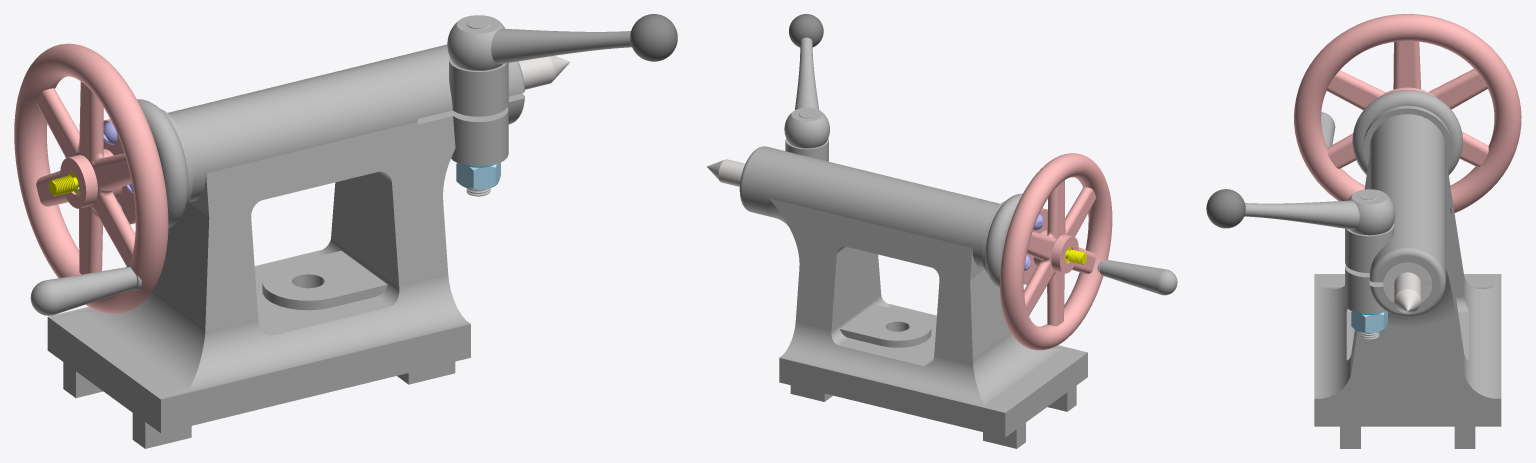
The model's file is tailstock_assembly1.glb.
3 views of the same model, side by side, from view 1: azimuth 30°, elevation 25°; view 2: azimuth 150°, elevation 25°; view 3: azimuth 270°, elevation 25° (orthographic). The views are drawn at different scales.
Visible parts, largest first — view 1: body tailstock comp-1, WHEEL-1, HANDLE-1, HANDLE 1-1, CENTRE-1, M16 NUT-1, FLANGE-1; view 2: body tailstock comp-1, WHEEL-1, HANDLE-1, HANDLE 1-1, CENTRE-1; view 3: body tailstock comp-1, WHEEL-1, HANDLE-1, CENTRE-1, BARREL-1, M16 NUT-1, HANDLE 1-1.
Part boxes in pixels (left/top/right/bottom): body tailstock comp-1: left=47, top=44, right=524, bottom=448; WHEEL-1: left=14, top=43, right=168, bottom=313; HANDLE-1: left=447, top=14, right=677, bottom=70; HANDLE 1-1: left=30, top=264, right=141, bottom=315; CENTRE-1: left=518, top=56, right=569, bottom=89; M16 NUT-1: left=456, top=162, right=500, bottom=189; FLANGE-1: left=103, top=119, right=135, bottom=224; body tailstock comp-1: left=739, top=138, right=1087, bottom=448; WHEEL-1: left=1000, top=153, right=1112, bottom=350; HANDLE-1: left=784, top=14, right=829, bottom=148; HANDLE 1-1: left=1097, top=259, right=1177, bottom=295; CENTRE-1: left=706, top=159, right=744, bottom=186; body tailstock comp-1: left=1314, top=90, right=1501, bottom=448; WHEEL-1: left=1294, top=14, right=1521, bottom=212; HANDLE-1: left=1206, top=189, right=1395, bottom=235; CENTRE-1: left=1394, top=272, right=1421, bottom=313; BARREL-1: left=1383, top=262, right=1432, bottom=302; M16 NUT-1: left=1351, top=311, right=1387, bottom=333; HANDLE 1-1: left=1321, top=112, right=1335, bottom=147.
Bounding box in the file's own units: 0.457 × 0.2782 × 0.2561.
